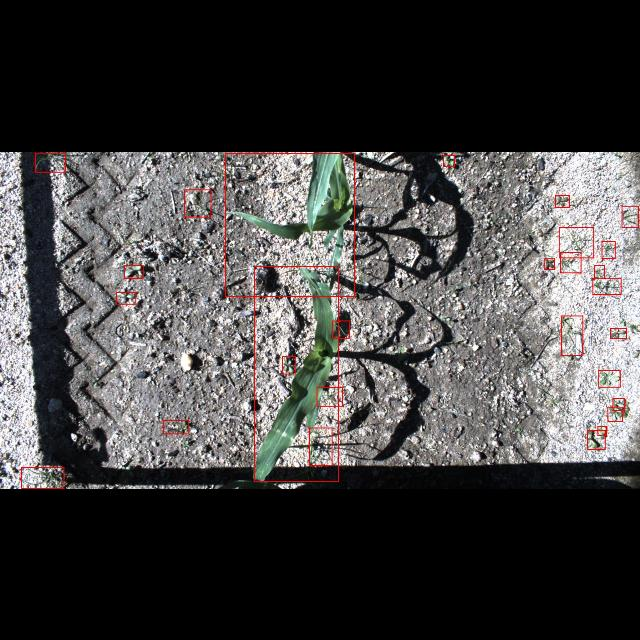crop: (226, 152, 354, 296), (254, 266, 338, 480)
weed: (558, 226, 594, 258), (308, 427, 332, 465), (561, 315, 583, 355), (22, 468, 64, 488), (185, 188, 211, 216), (35, 152, 65, 170), (318, 386, 342, 406), (593, 278, 621, 294), (560, 252, 582, 272), (598, 369, 620, 386), (587, 430, 605, 450), (164, 420, 188, 434), (622, 206, 638, 227), (332, 320, 350, 338), (125, 264, 144, 278), (282, 355, 296, 373), (116, 291, 136, 303), (608, 406, 622, 422), (602, 240, 614, 258), (555, 194, 569, 206), (610, 328, 626, 338), (613, 398, 625, 410), (594, 264, 604, 278), (444, 154, 454, 166), (544, 258, 554, 268), (598, 426, 606, 434)
